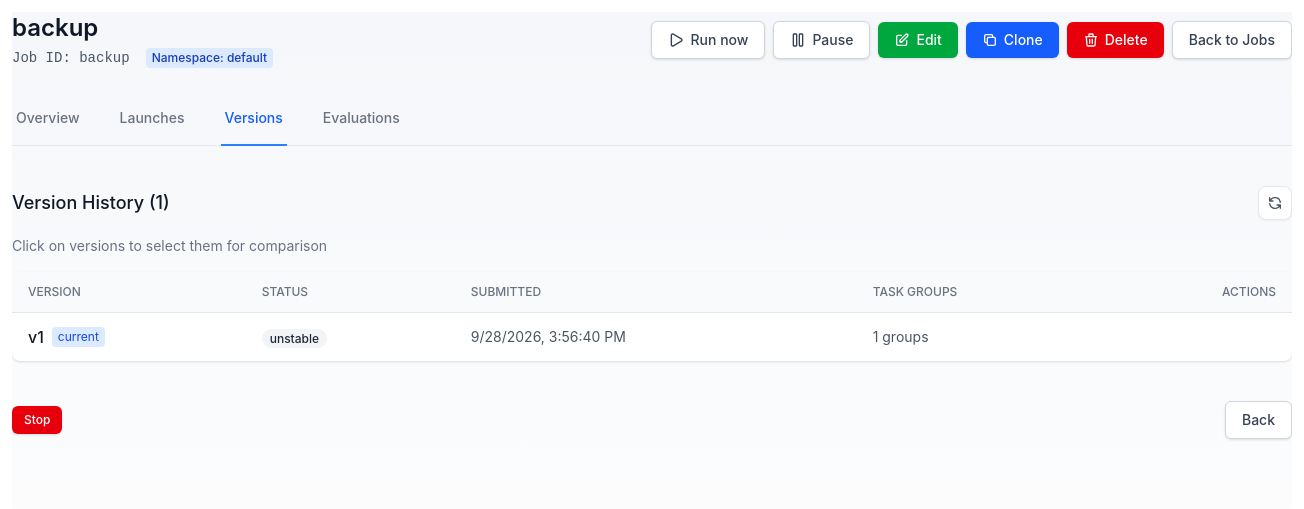
JobDetailPage for a periodic job › pause reloads the versions tab
The width and height of the screenshot is (1304, 509).
Expected: the heading "Version History (1)" is shown, [12,189,170,217]
Click the button "Pause": [822, 40] box [773,21,870,59]
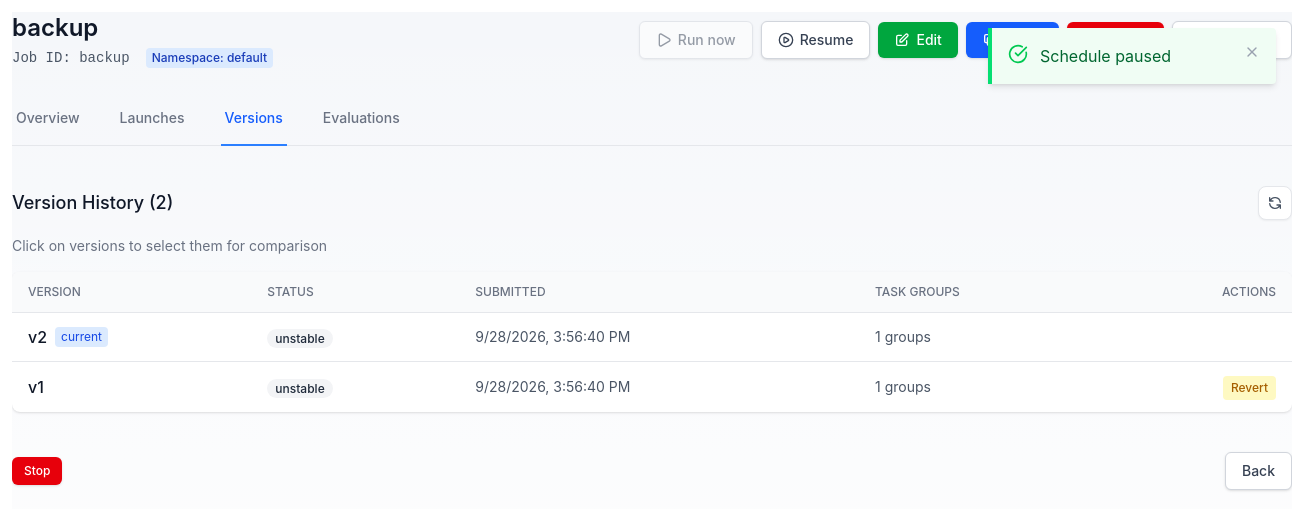
Expected: the heading "Version History (2)" is shown, [12,189,173,217]
